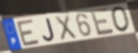6: (75, 12, 93, 38)
E: (89, 7, 116, 37), (15, 18, 42, 48)
J: (42, 17, 57, 43)
O: (111, 5, 131, 33)
X: (54, 14, 78, 42)
